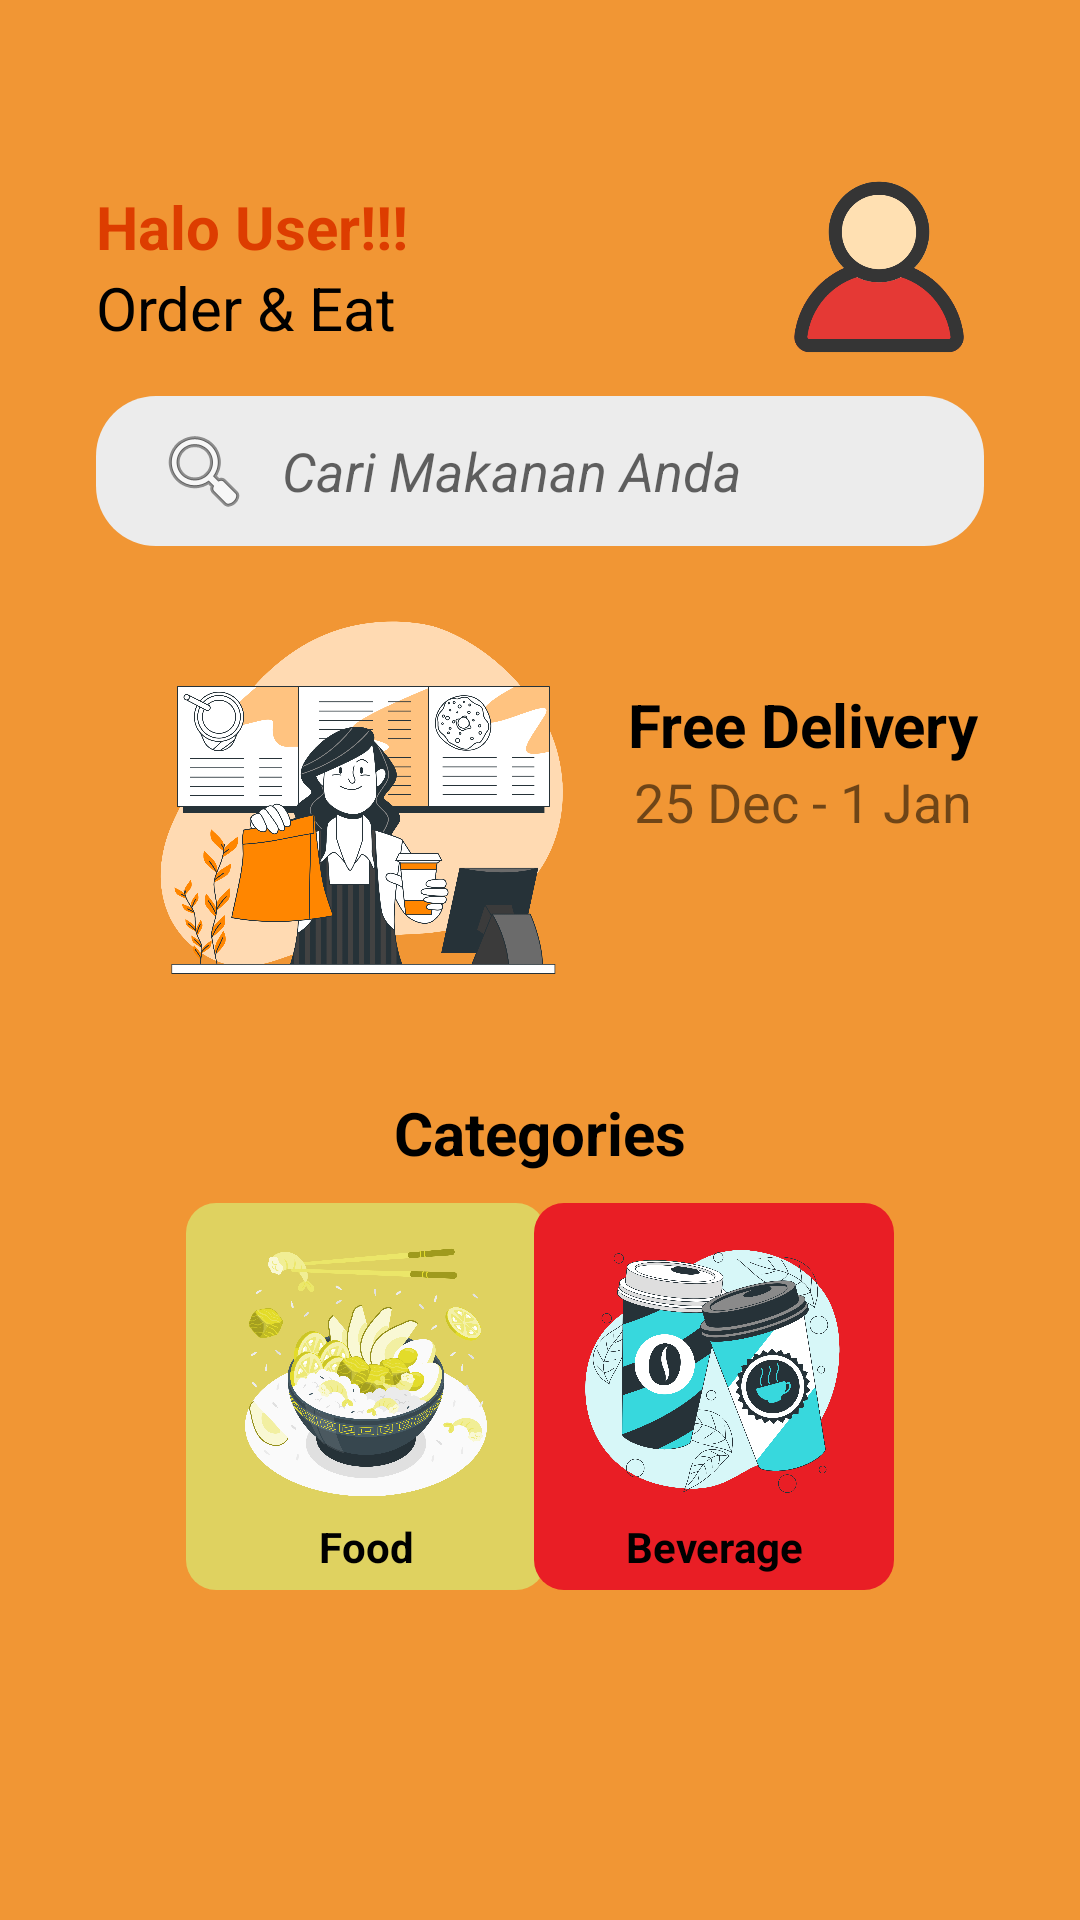

Icons on this 1080px x 1920px Android screen, each with its box as (x1, y1, x2, y2):
user: (794, 181, 964, 352)
